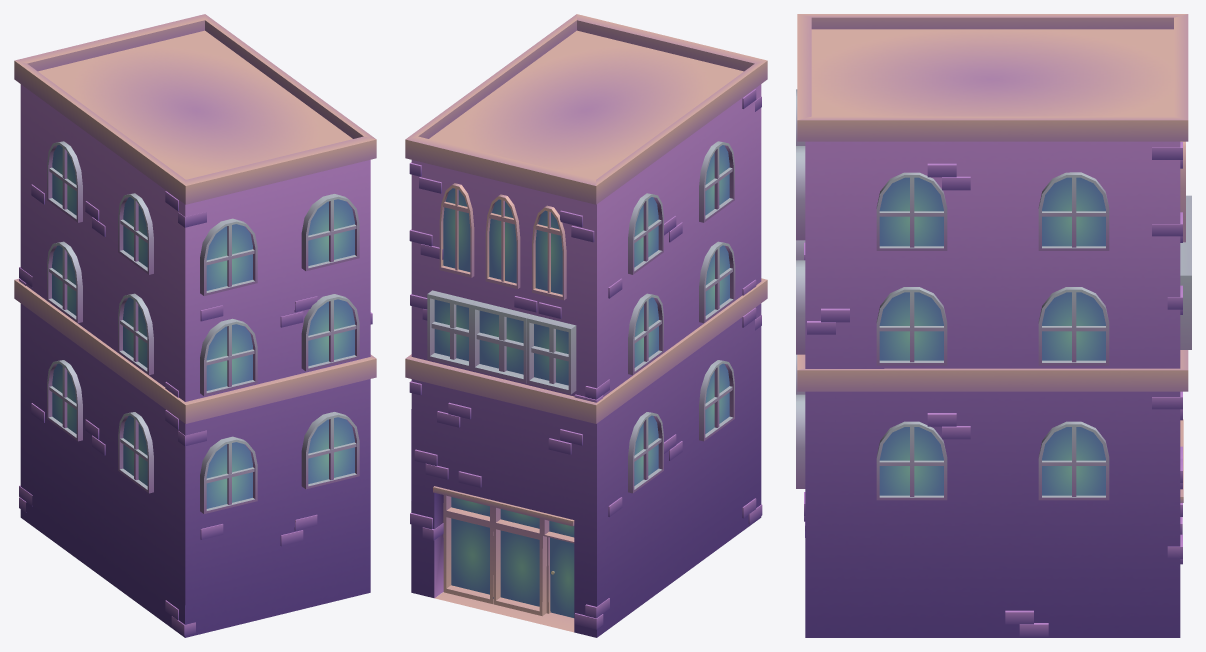
The picture shows the model from 3 angles, left to right: view 1: azimuth 30°, elevation 25°; view 2: azimuth 150°, elevation 25°; view 3: azimuth 270°, elevation 25°; orthographic projection. The views are drawn at different scales.
Visible parts, largest first — view 1: SM_4F_03; view 2: SM_4F_03; view 3: SM_4F_03.
Part boxes in pixels (left/top/right/bottom): SM_4F_03: left=14, top=14, right=376, bottom=637; SM_4F_03: left=405, top=14, right=767, bottom=637; SM_4F_03: left=796, top=14, right=1191, bottom=637.
Size of the model in its own units: 6.01 by 9.26 by 13.41.
